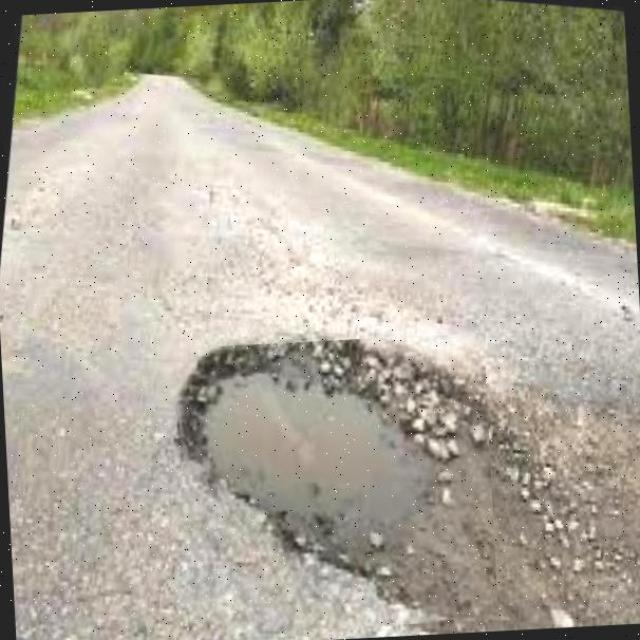pothole: (176, 332, 590, 616)
